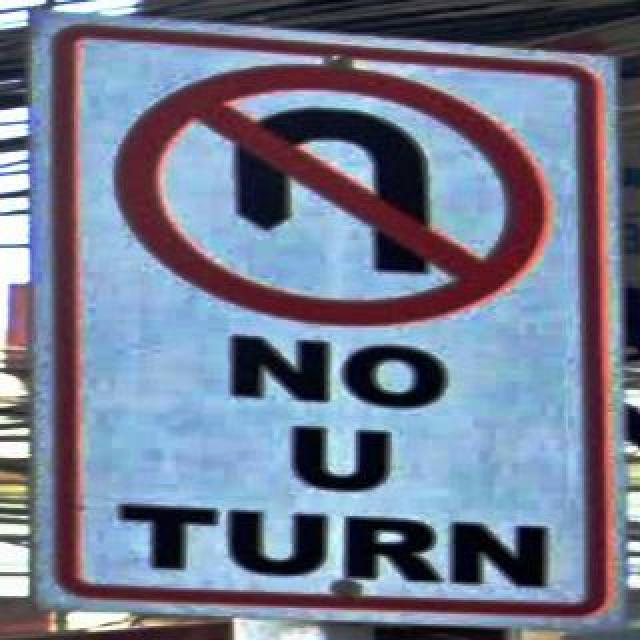no u turn: (108, 62, 556, 330)
